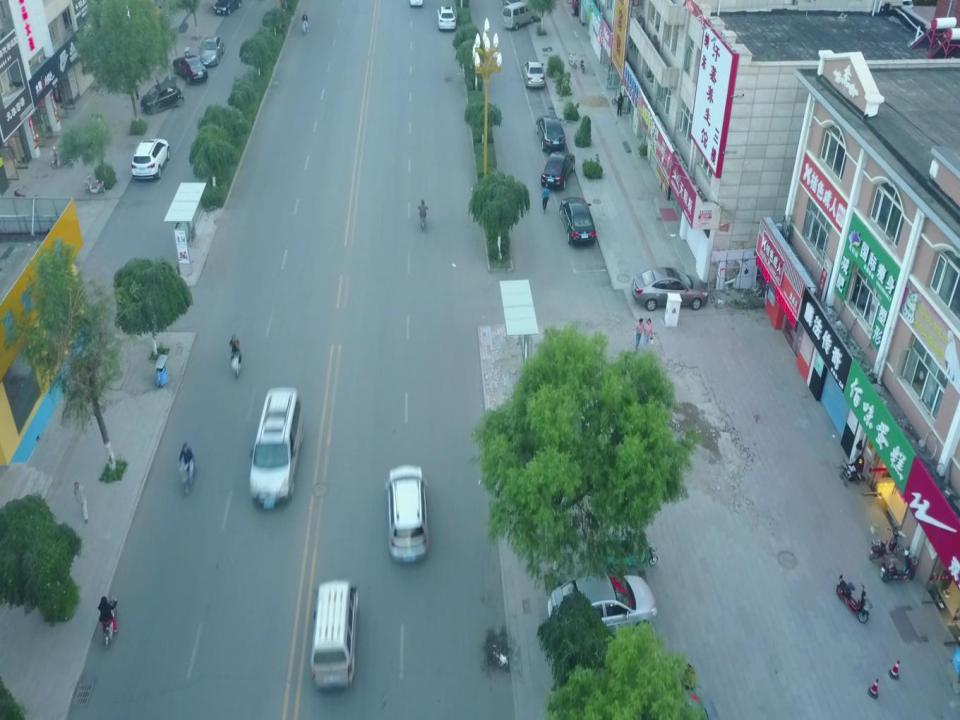car: (545, 575, 656, 635), (385, 468, 430, 558), (635, 265, 708, 308), (561, 195, 595, 246), (134, 134, 170, 178), (140, 83, 184, 112), (544, 151, 576, 190), (172, 52, 208, 83), (537, 114, 567, 151), (198, 33, 224, 66), (522, 57, 546, 92), (436, 7, 458, 30), (303, 24, 310, 38)
van: (311, 581, 359, 686), (503, 5, 538, 29)
